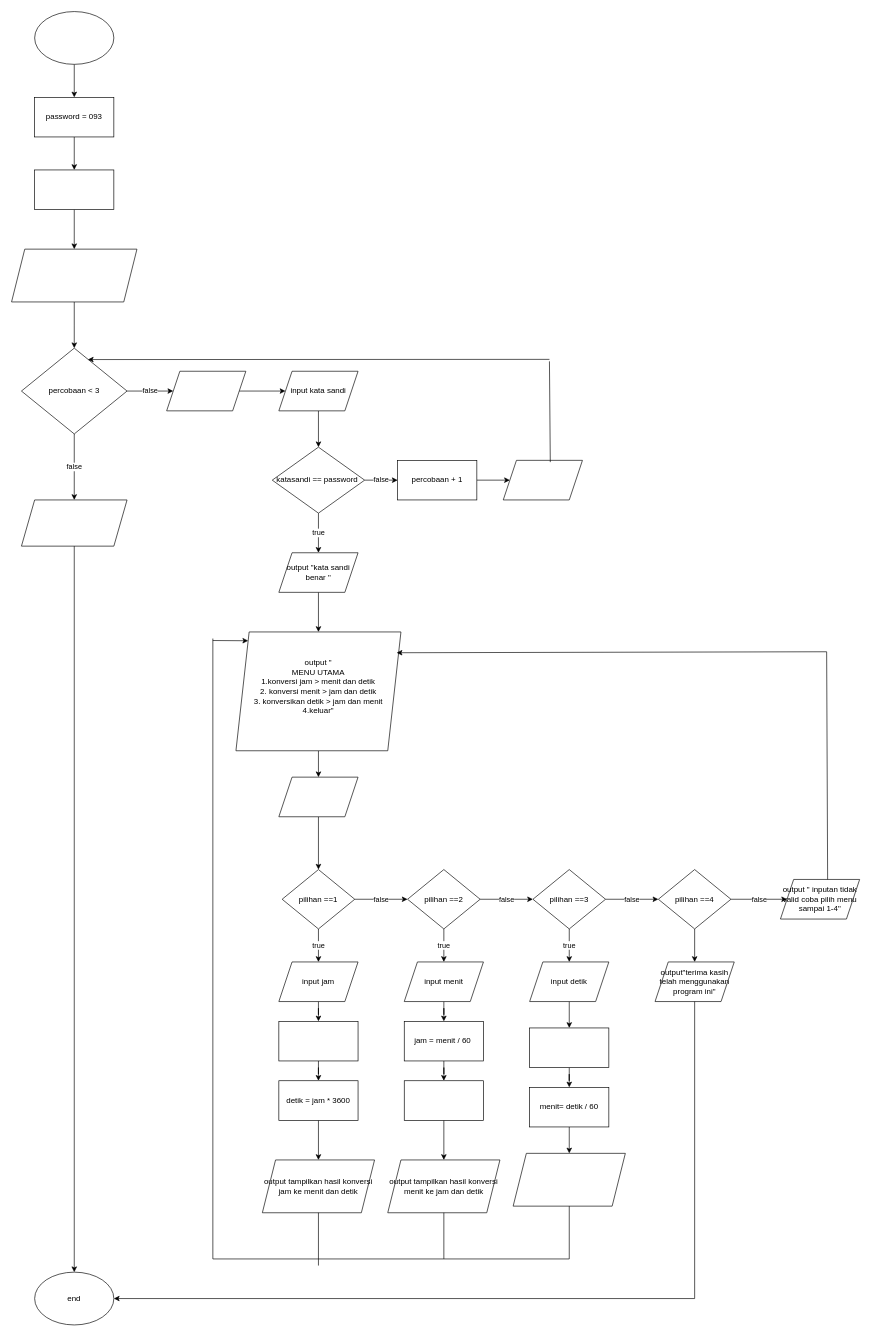
Image size: 871x1337. Some labels were removed from this diagram. Each missing label, with the centre of its shape:
detik = menit * 60: [443,1100]
input menu 1-4: [318,796]
input nama anda: [206,391]
jam = detik / 3600: [569,1047]
kata sandi salah kesempatan sisa: [542,480]
menit = jam * 60: [318,1041]
nama = rando: [74,189]
output " login gagal kesempatan habis": [74,522]
output tampilkan hasil konversi detik ke jam dan menit: [568,1179]
output"menu login pasword": [74,275]
start: [74,37]
